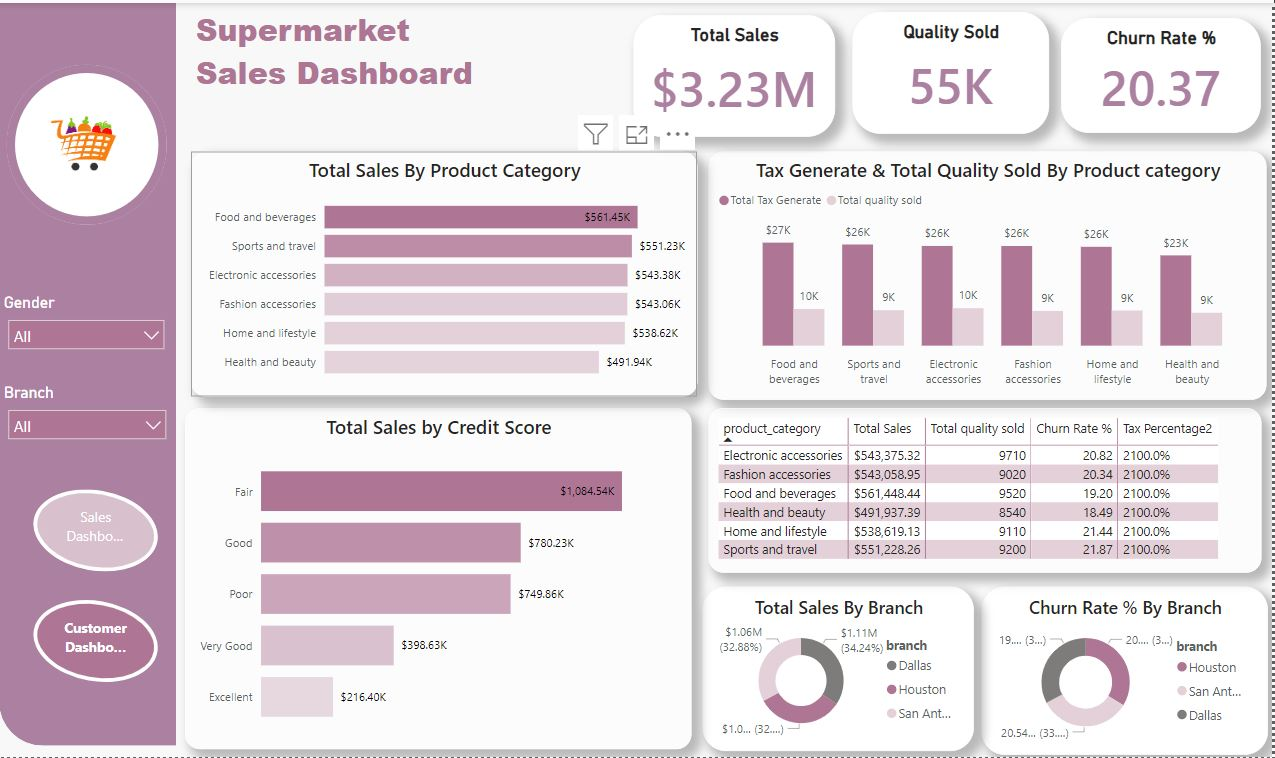

What the dashboard file says about the page in this screenshot:
{"tool":"powerbi","page":{"name":"Sales Dashboard","canvas":[1350,800],"ordinal":0},"visuals":[{"type":"donutChart","title":"Churn Rate % By Branch","fields":{"Category":["supermarket_churnData.branch"],"Y":["Dax.Churn Rate %"]},"box":[1042.7,618.6,304,178.5],"z":0},{"type":"clusteredColumnChart","title":"Tax Generate & Total Quality Sold By Product category","fields":{"Category":["supermarket_churnData.product_category"],"Y":["Dax.Total Tax Generate","Dax.Total quality sold"]},"box":[752.9,157.3,592.1,263.3],"z":1000},{"type":"card","title":"Total Sales","fields":{"Values":["Dax.Total Sales"]},"box":[673.4,12.4,213.8,129],"z":2000},{"type":"card","title":"Quality Sold ","fields":{"Values":["Dax.Total quality sold"]},"box":[904.9,8.8,208.5,129],"z":3000},{"type":"card","title":"Churn Rate %","fields":{"Values":["Dax.Churn Rate %"]},"box":[1127.6,15.9,212.1,121.9],"z":4000},{"type":"donutChart","title":"Total Sales By Branch","fields":{"Y":["Dax.Total Sales"],"Category":["supermarket_churnData.branch"]},"box":[745.8,618.6,288.1,175],"z":5000},{"type":"pivotTable","fields":{"Rows":["supermarket_churnData.product_category"],"Values":["Dax.Total Sales","Dax.Total quality sold","Dax.Churn Rate %","Dax.Tax Percentage2"]},"box":[752.9,429.5,586.8,175],"z":6000},{"type":"barChart","title":"Total Sales by Credit Score","fields":{"Category":["supermarket_churnData.credit_Category"],"Y":["Dax.Total Sales"]},"box":[197.9,429.5,537.3,362.3],"z":7000},{"type":"shape","box":[0,60.5,188,181.6],"z":10000,"group":"g1"},{"type":"shape","box":[0,0.1,188,788.2],"z":10250,"group":"g1"},{"type":"slicer","title":"Branch","fields":{"Values":["supermarket_churnData.branch"]},"box":[0,403.2,187.3,72.5],"z":10500,"group":"g1"},{"type":"group","id":"g1","title":"Group 1","box":[0,0.1,205,788.2],"z":11000},{"type":"shape","box":[8.7,64.9,170.2,170.2],"z":11000,"group":"g1"},{"type":"slicer","title":"Gender","fields":{"Values":["Customer_Table.gender"]},"box":[0,307.7,185.6,76],"z":11250,"group":"g1"},{"type":"image","box":[21.2,93.9,137.9,109.6],"z":11500,"group":"g1"},{"type":"barChart","title":"Total Sales By Product Category","fields":{"Y":["Dax.Total Sales"],"Category":["supermarket_churnData.product_category"]},"box":[203.2,157.3,537.3,259.8],"z":12000},{"type":"pageNavigator","box":[0,505.7,205,224.5],"z":12000,"group":"g1"},{"type":"textbox","box":[203.2,0,364.1,157.3],"z":15000}]}

Visuals, with their boxes in screenshot pixels (x1, y1, x2, y2), scaled from the page's 1350x800 canvas onto the 1275x758 screenshot:
"Churn Rate % By Branch" donutChart: x1=985 y1=586 x2=1272 y2=755
"Tax Generate & Total Quality Sold By Product category" clusteredColumnChart: x1=711 y1=149 x2=1270 y2=399
"Total Sales" card: x1=636 y1=12 x2=838 y2=134
"Quality Sold " card: x1=855 y1=8 x2=1052 y2=131
"Churn Rate %" card: x1=1065 y1=15 x2=1265 y2=131
"Total Sales By Branch" donutChart: x1=704 y1=586 x2=976 y2=752
pivotTable - supermarket_churnData.product_category x Dax.Total Sales: x1=711 y1=407 x2=1265 y2=573
"Total Sales by Credit Score" barChart: x1=187 y1=407 x2=694 y2=750
shape: x1=0 y1=57 x2=178 y2=229
shape: x1=0 y1=0 x2=178 y2=747
"Branch" slicer: x1=0 y1=382 x2=177 y2=451
"Group 1" group: x1=0 y1=0 x2=194 y2=747
shape: x1=8 y1=61 x2=169 y2=223
"Gender" slicer: x1=0 y1=292 x2=175 y2=364
image: x1=20 y1=89 x2=150 y2=193
"Total Sales By Product Category" barChart: x1=192 y1=149 x2=699 y2=395
pageNavigator: x1=0 y1=479 x2=194 y2=692
textbox: x1=192 y1=0 x2=536 y2=149
